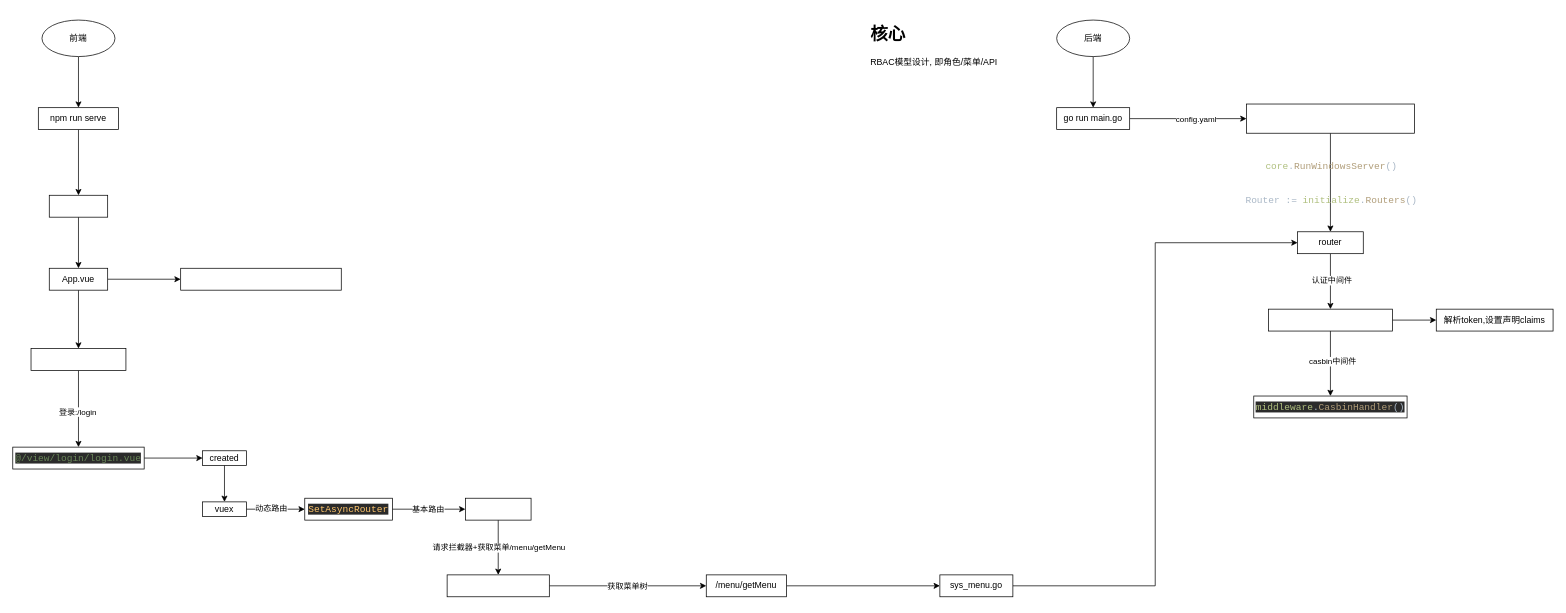
The diagram is 1566 pixels wide and 613 high, and some of its shapes have lost their labels. Here are the shapes that lost their labels. From the top down, the centre of each, then its label:
At (1330,118): "global .GVA_VP = core . Viper ()".
At (78,206): "main.js".
At (260,279): "http://localhost:8088/api/init/checkdb".
At (1330,319): "middleware . JWTAuth ()".
At (78,359): "router/index.js".
At (498,508): "baseRouter".
At (497,585): "await asyncMenu ()".
